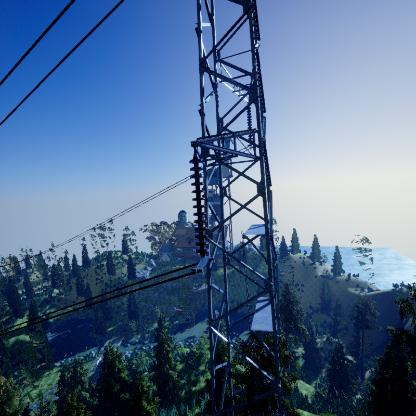insulator: (188, 157, 212, 258), (246, 105, 254, 149)
